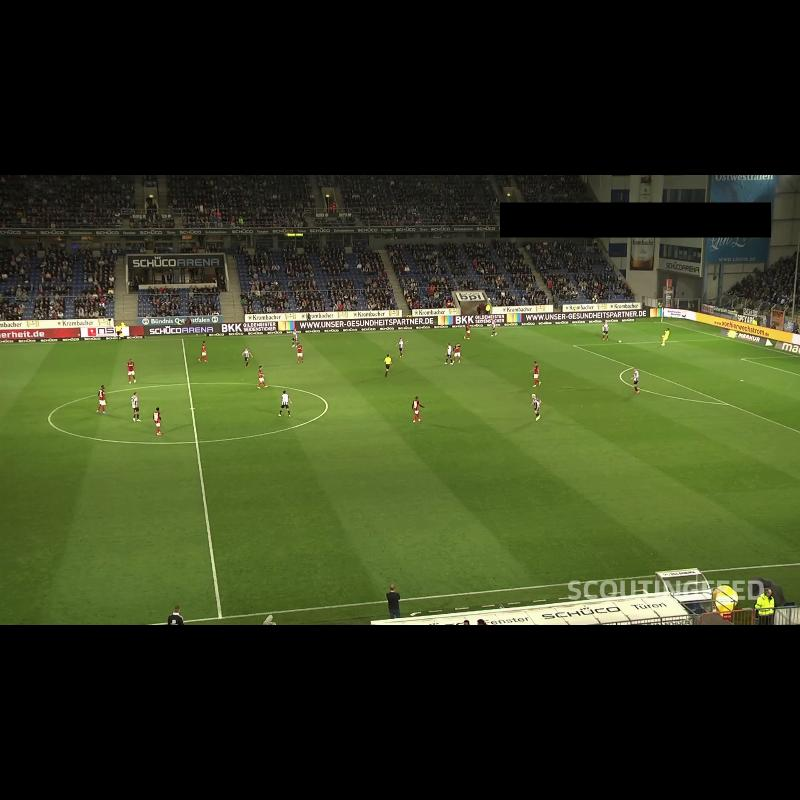cross_recipient_zone: (575, 339, 800, 433)
crossing_player_zone: (447, 322, 726, 349), (696, 447, 800, 514)
pitch: (0, 322, 800, 625)
